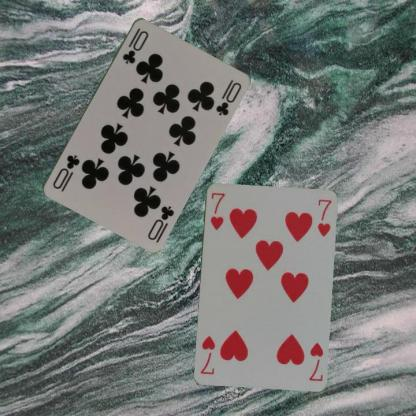10c: (120, 25, 150, 65), (145, 203, 176, 241)
7h: (207, 190, 226, 231), (306, 340, 324, 382)
